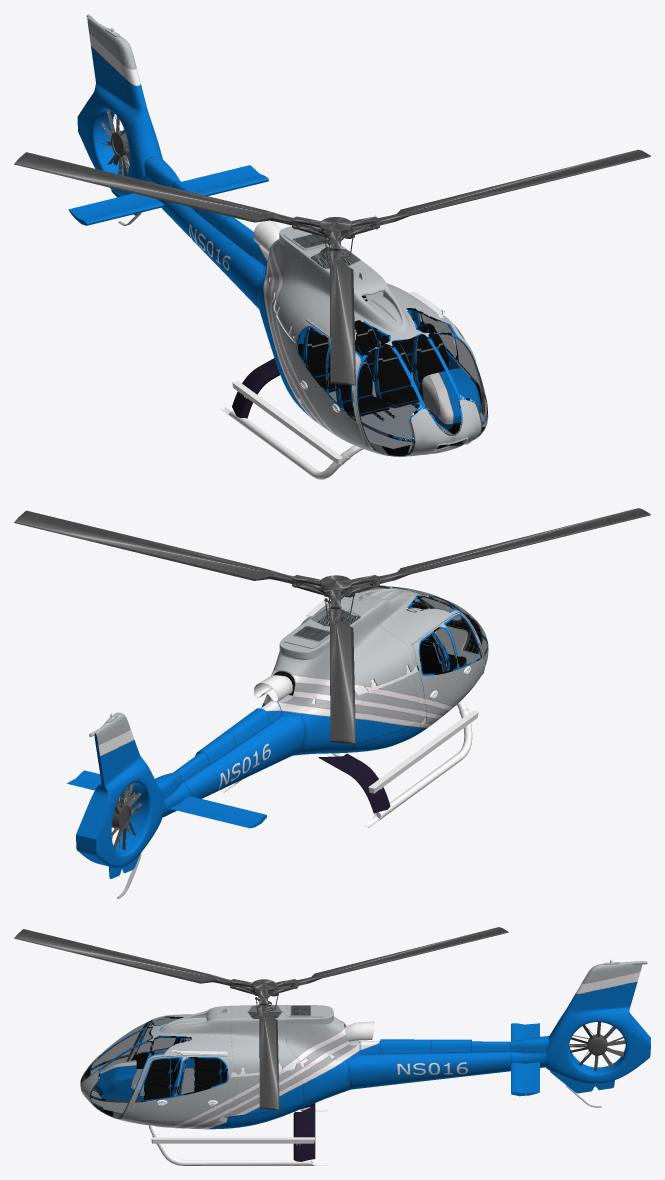
The picture shows the model from 3 angles, top to bottom: view 1: azimuth 30°, elevation 25°; view 2: azimuth 150°, elevation 25°; view 3: azimuth 270°, elevation 25°; orthographic projection. The views are drawn at different scales.
Parts seen in each view (by area): view 1: helicopter.Shape_body_0, helicopter.Shape_glass_0, helicopter.Shape_elise_0, helicopter.Shape_interior_0, helicopter.Shape_black_0, helicopter.Shape_rotor_0; view 2: helicopter.Shape_body_0, helicopter.Shape_elise_0, helicopter.Shape_black_0, helicopter.Shape_glass_0, helicopter.Shape_interior_0, helicopter.Shape_rotor_0; view 3: helicopter.Shape_body_0, helicopter.Shape_elise_0, helicopter.Shape_glass_0, helicopter.Shape_black_0, helicopter.Shape_interior_0, helicopter.Shape_rotor_0.
Boxes of the visible parts, x1,y1,x2,y2 form: helicopter.Shape_body_0: [68, 14, 487, 456]; helicopter.Shape_glass_0: [297, 309, 487, 456]; helicopter.Shape_elise_0: [14, 149, 650, 385]; helicopter.Shape_interior_0: [302, 321, 449, 421]; helicopter.Shape_black_0: [110, 27, 470, 479]; helicopter.Shape_rotor_0: [100, 110, 129, 176]; helicopter.Shape_body_0: [67, 586, 488, 898]; helicopter.Shape_elise_0: [14, 508, 650, 743]; helicopter.Shape_black_0: [89, 594, 478, 827]; helicopter.Shape_glass_0: [360, 585, 488, 673]; helicopter.Shape_interior_0: [420, 632, 466, 673]; helicopter.Shape_rotor_0: [111, 782, 141, 850]; helicopter.Shape_body_0: [80, 961, 650, 1161]; helicopter.Shape_elise_0: [14, 927, 508, 1110]; helicopter.Shape_glass_0: [81, 1017, 226, 1117]; helicopter.Shape_black_0: [80, 959, 647, 1165]; helicopter.Shape_interior_0: [143, 1038, 227, 1100]; helicopter.Shape_rotor_0: [569, 1022, 625, 1071].
Size of the model in its own units: 300 by 136 by 441.
Materials: 6 (5 with a texture image).
